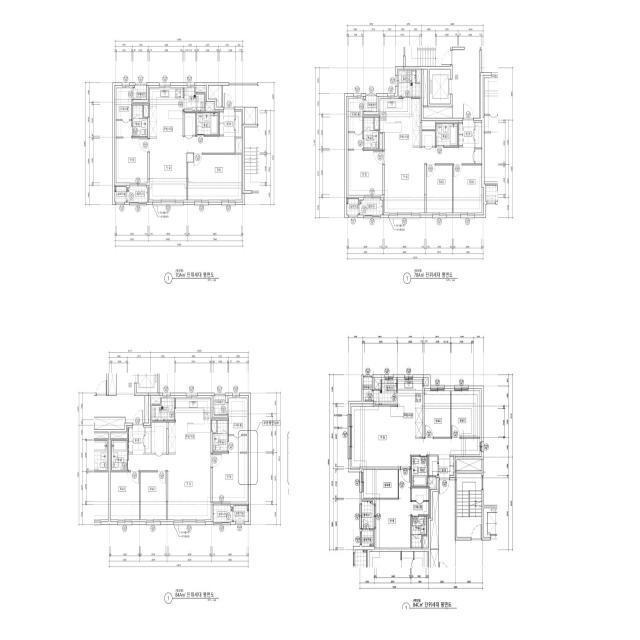space_balconi: (374, 380, 397, 405), (399, 71, 420, 97), (152, 398, 174, 421), (184, 88, 204, 111), (360, 198, 382, 215), (213, 505, 233, 522), (362, 501, 374, 529), (127, 186, 147, 202)
space_bedroom: (376, 470, 410, 548), (188, 154, 241, 200), (213, 453, 247, 502), (348, 151, 382, 195), (116, 138, 148, 183), (453, 165, 482, 213), (111, 472, 139, 520), (451, 391, 480, 437), (426, 165, 452, 213), (140, 472, 166, 520), (425, 391, 450, 437)
space_dressroom: (229, 398, 247, 452), (116, 88, 132, 137), (348, 99, 363, 149), (411, 488, 429, 515)
space_elevator: (430, 69, 450, 104)
space_elevator_hall: (452, 50, 480, 118)
space_front: (219, 109, 241, 137), (128, 425, 144, 453), (459, 119, 474, 147), (439, 455, 454, 478)
space_kitchen: (168, 398, 211, 453), (380, 98, 420, 146), (150, 88, 183, 137), (398, 380, 423, 437)
space_living_room: (352, 406, 480, 467), (384, 146, 474, 213), (128, 453, 211, 520), (150, 137, 235, 200)
space_multipurpose_space: (364, 470, 398, 498)
space_other: (430, 492, 439, 549), (152, 422, 166, 453), (423, 107, 452, 118), (457, 459, 482, 471), (208, 86, 222, 107), (214, 396, 227, 415), (185, 113, 196, 135), (364, 96, 377, 112), (363, 378, 372, 401), (422, 131, 435, 146), (423, 69, 428, 105), (475, 123, 482, 148), (133, 86, 146, 99), (245, 108, 255, 124), (429, 456, 437, 476), (145, 428, 151, 453), (145, 396, 149, 423), (475, 149, 482, 164), (111, 433, 127, 439), (236, 138, 242, 153), (428, 477, 436, 488), (205, 103, 214, 111), (212, 420, 217, 432), (375, 380, 381, 389), (375, 117, 379, 129), (144, 105, 148, 117), (152, 398, 160, 404), (423, 536, 427, 548), (196, 88, 205, 93), (416, 71, 420, 82), (380, 134, 382, 149), (424, 379, 427, 386)
space_outdoor_room: (234, 506, 249, 522), (347, 199, 359, 215), (115, 186, 126, 202), (362, 530, 373, 546)
space_staircase: (457, 474, 482, 537)
space_toilet: (436, 124, 458, 146), (364, 117, 379, 149), (133, 105, 148, 137), (411, 516, 426, 548), (213, 420, 228, 452), (112, 440, 127, 471), (412, 456, 427, 487), (197, 113, 218, 135)
